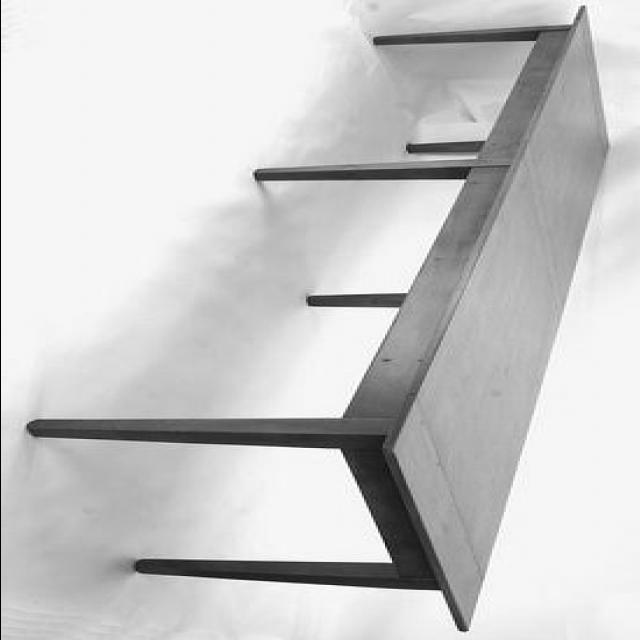table: (34, 8, 625, 632)
